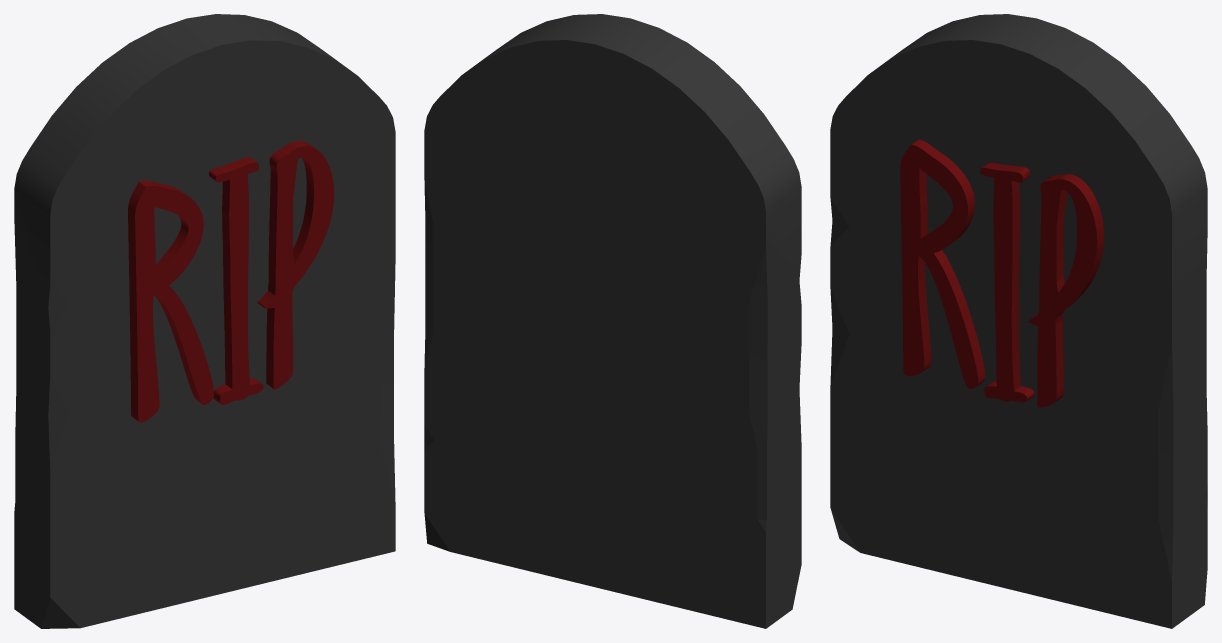
The model's file is Gravestone.fbx.
The picture shows the model from 3 angles, left to right: view 1: azimuth 30°, elevation 25°; view 2: azimuth 150°, elevation 25°; view 3: azimuth 330°, elevation 25°; orthographic projection.
Visible parts, largest first — view 1: Cube, Text; view 2: Cube; view 3: Cube, Text.
Boxes of the visible parts, x1,y1,x2,y2 form: Cube: [14, 14, 395, 628]; Text: [128, 141, 334, 422]; Cube: [424, 14, 801, 628]; Cube: [830, 14, 1207, 628]; Text: [900, 139, 1104, 407].
Bounding box in the file's own units: 10.57 × 16.06 × 2.28.
